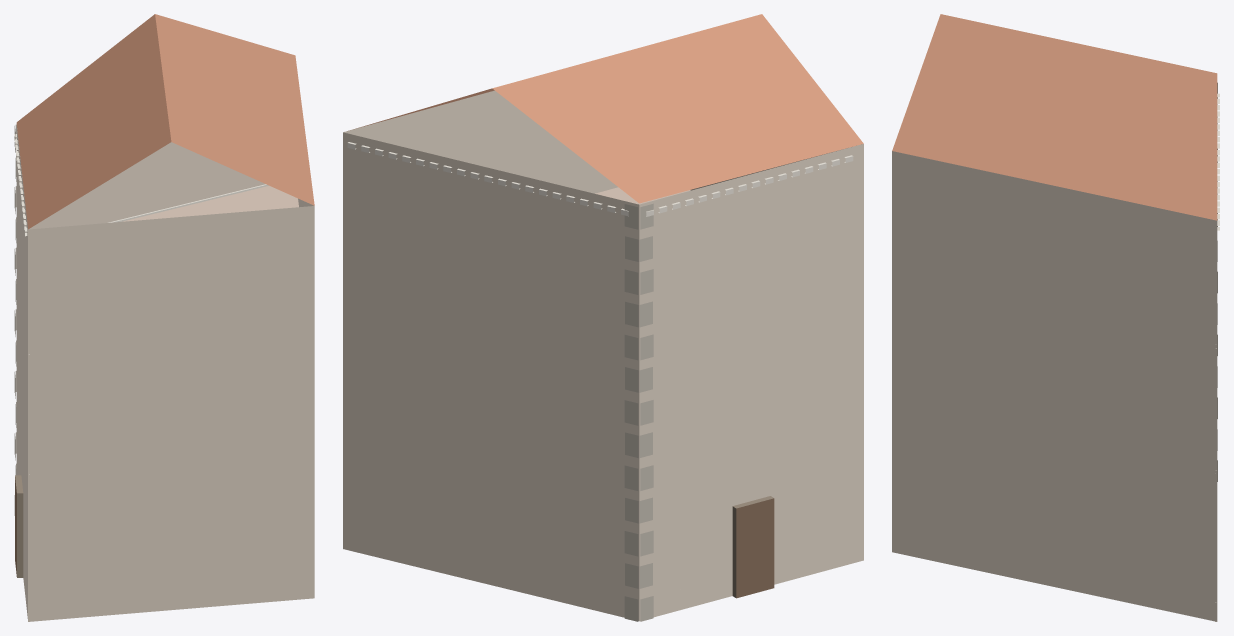
3 views of the same model, side by side, from view 1: azimuth 30°, elevation 25°; view 2: azimuth 150°, elevation 25°; view 3: azimuth 270°, elevation 25° (orthographic). The views are drawn at different scales.
Visible parts, largest first — view 1: W-34; view 2: W-34; view 3: W-34.
Boxes of the visible parts, x1,y1,x2,y2 form: W-34: [14, 14, 314, 621]; W-34: [343, 14, 863, 621]; W-34: [892, 14, 1219, 621].
Bounding box in the file's own units: 10.31 × 12.17 × 7.55.
